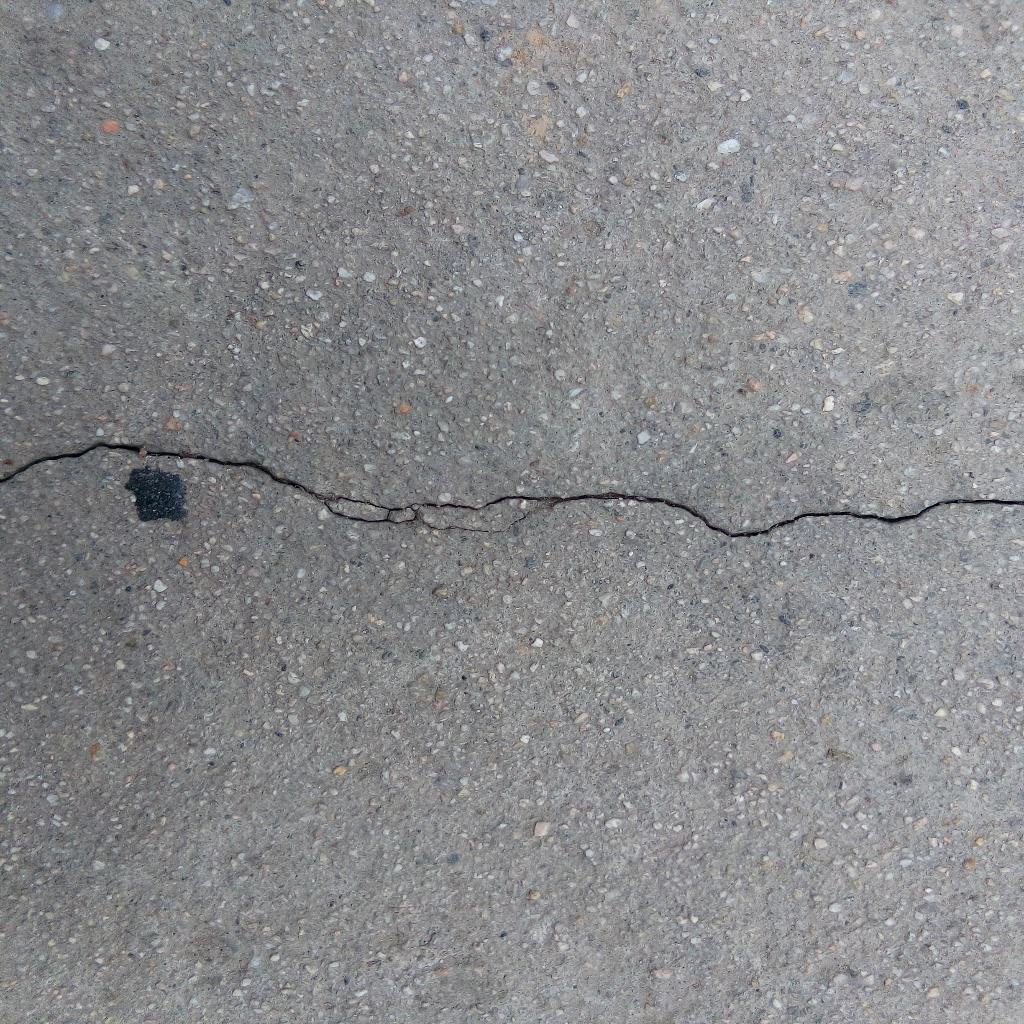Crack: (1, 439, 1024, 539)
